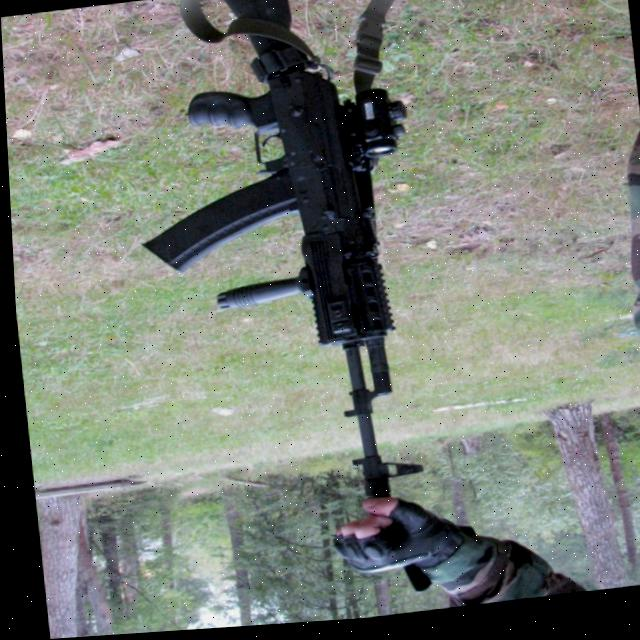firearm: (119, 0, 440, 535)
